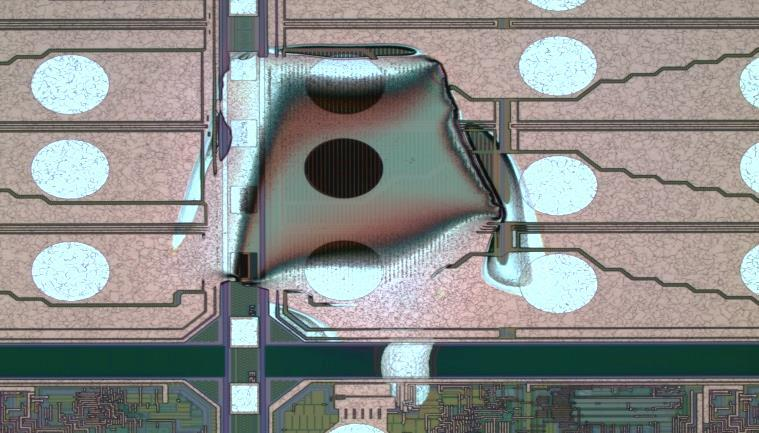BLOCK ETCH: (153, 31, 553, 328)
